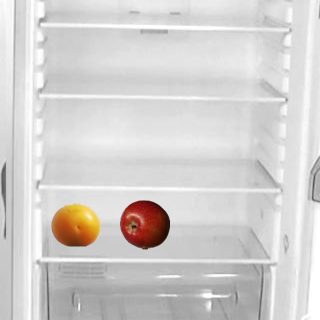Apple Braeburn: (119, 199, 169, 249)
Cherry Wax Yellow: (50, 199, 100, 249)
